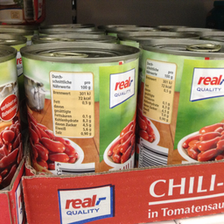beans: (19, 43, 138, 183), (139, 38, 224, 174)
